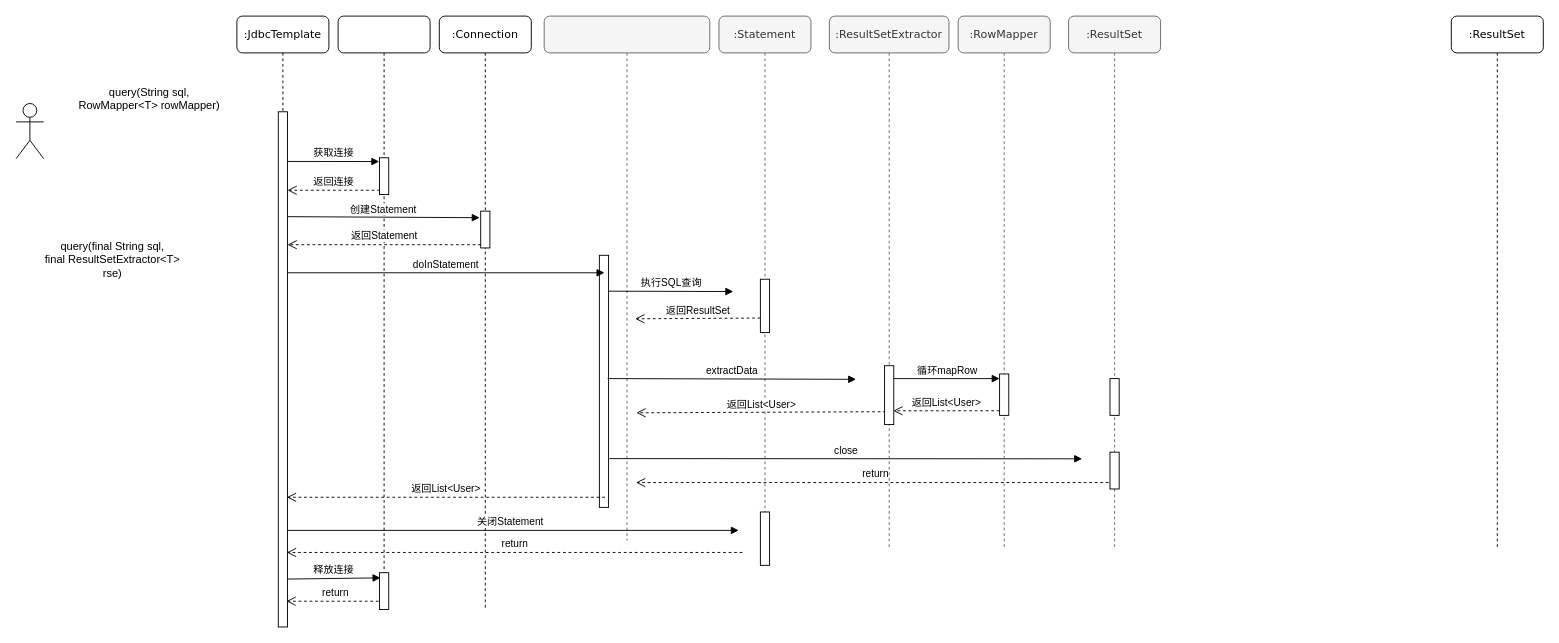
Some shapes in this 1559 by 643 pixel diagram are drawn without their labels. The box of each missing label's shape, as (x1, y1, x2, y2) in pixels:
:DataSource: (337, 15, 430, 610)
:QueryStatementCallback: (543, 15, 710, 540)
Actor: (15, 103, 44, 159)
